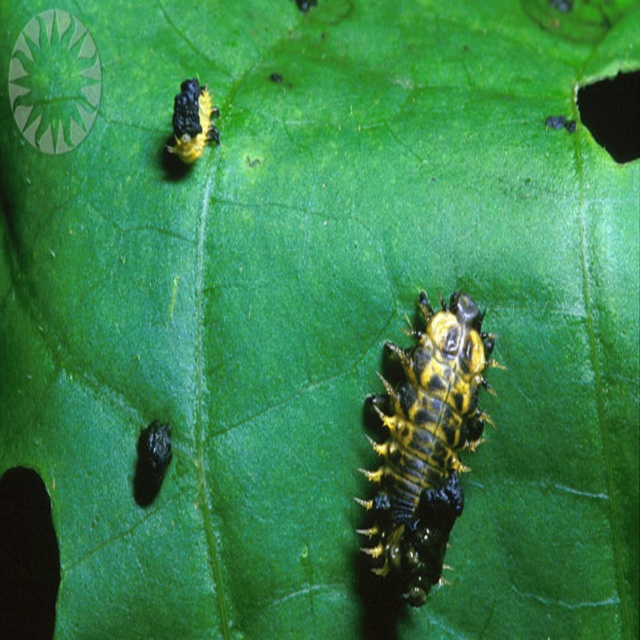Caterpillar: (355, 285, 502, 606)
